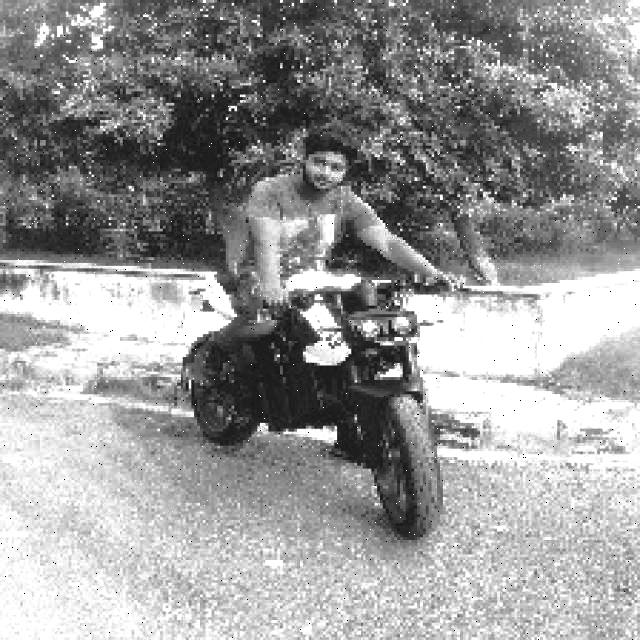Bike: (187, 274, 465, 536)
